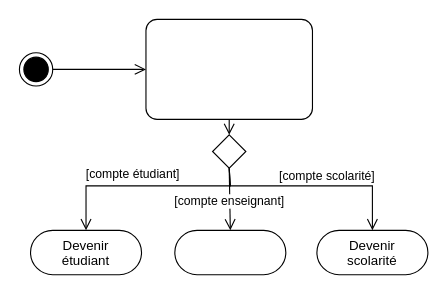
Image size: 447x305. Some labels were removed from this diagram. The centre of each missing label's shape, as x and y in pixels:
"Devenir enseignant" goes at [230,252].
"Procédure Authentification" goes at [228,68].
